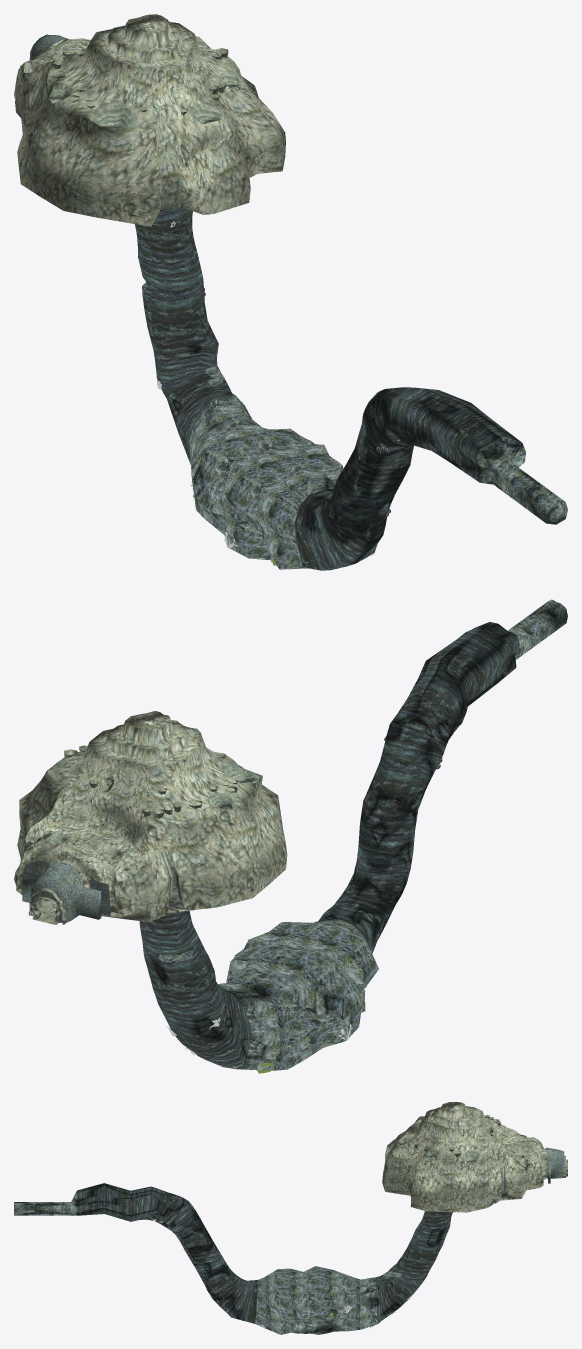
3 renders of one model, top to bottom at view 1: azimuth 30°, elevation 25°; view 2: azimuth 150°, elevation 25°; view 3: azimuth 270°, elevation 25°, orthographic. The views are drawn at different scales.
Parts seen in each view (by area): view 1: Shape 21, Shape 10, Shape 9, Shape 22, Shape 19; view 2: Shape 21, Shape 10, Shape 9, Shape 14, Shape 22, Shape 19, Shape 16, Shape 20; view 3: Shape 21, Shape 10, Shape 9, Shape 22, Shape 14.
Boxes of the visible parts, bbox=[...] form: Shape 21: bbox=[14, 14, 285, 226]; Shape 10: bbox=[135, 207, 521, 570]; Shape 9: bbox=[142, 282, 567, 569]; Shape 22: bbox=[48, 37, 241, 127]; Shape 19: bbox=[51, 48, 228, 115]; Shape 21: bbox=[14, 711, 287, 921]; Shape 10: bbox=[139, 622, 519, 1069]; Shape 9: bbox=[158, 599, 567, 1070]; Shape 14: bbox=[21, 860, 110, 923]; Shape 22: bbox=[49, 759, 262, 855]; Shape 19: bbox=[64, 745, 238, 818]; Shape 16: bbox=[159, 850, 190, 910]; Shape 20: bbox=[16, 889, 190, 924]; Shape 21: bbox=[382, 1102, 547, 1212]; Shape 10: bbox=[77, 1183, 452, 1323]; Shape 9: bbox=[14, 1191, 402, 1334]; Shape 22: bbox=[398, 1116, 525, 1163]; Shape 14: bbox=[521, 1147, 564, 1191].
Bounding box in the file's own units: 3850 × 6418 × 14500.
